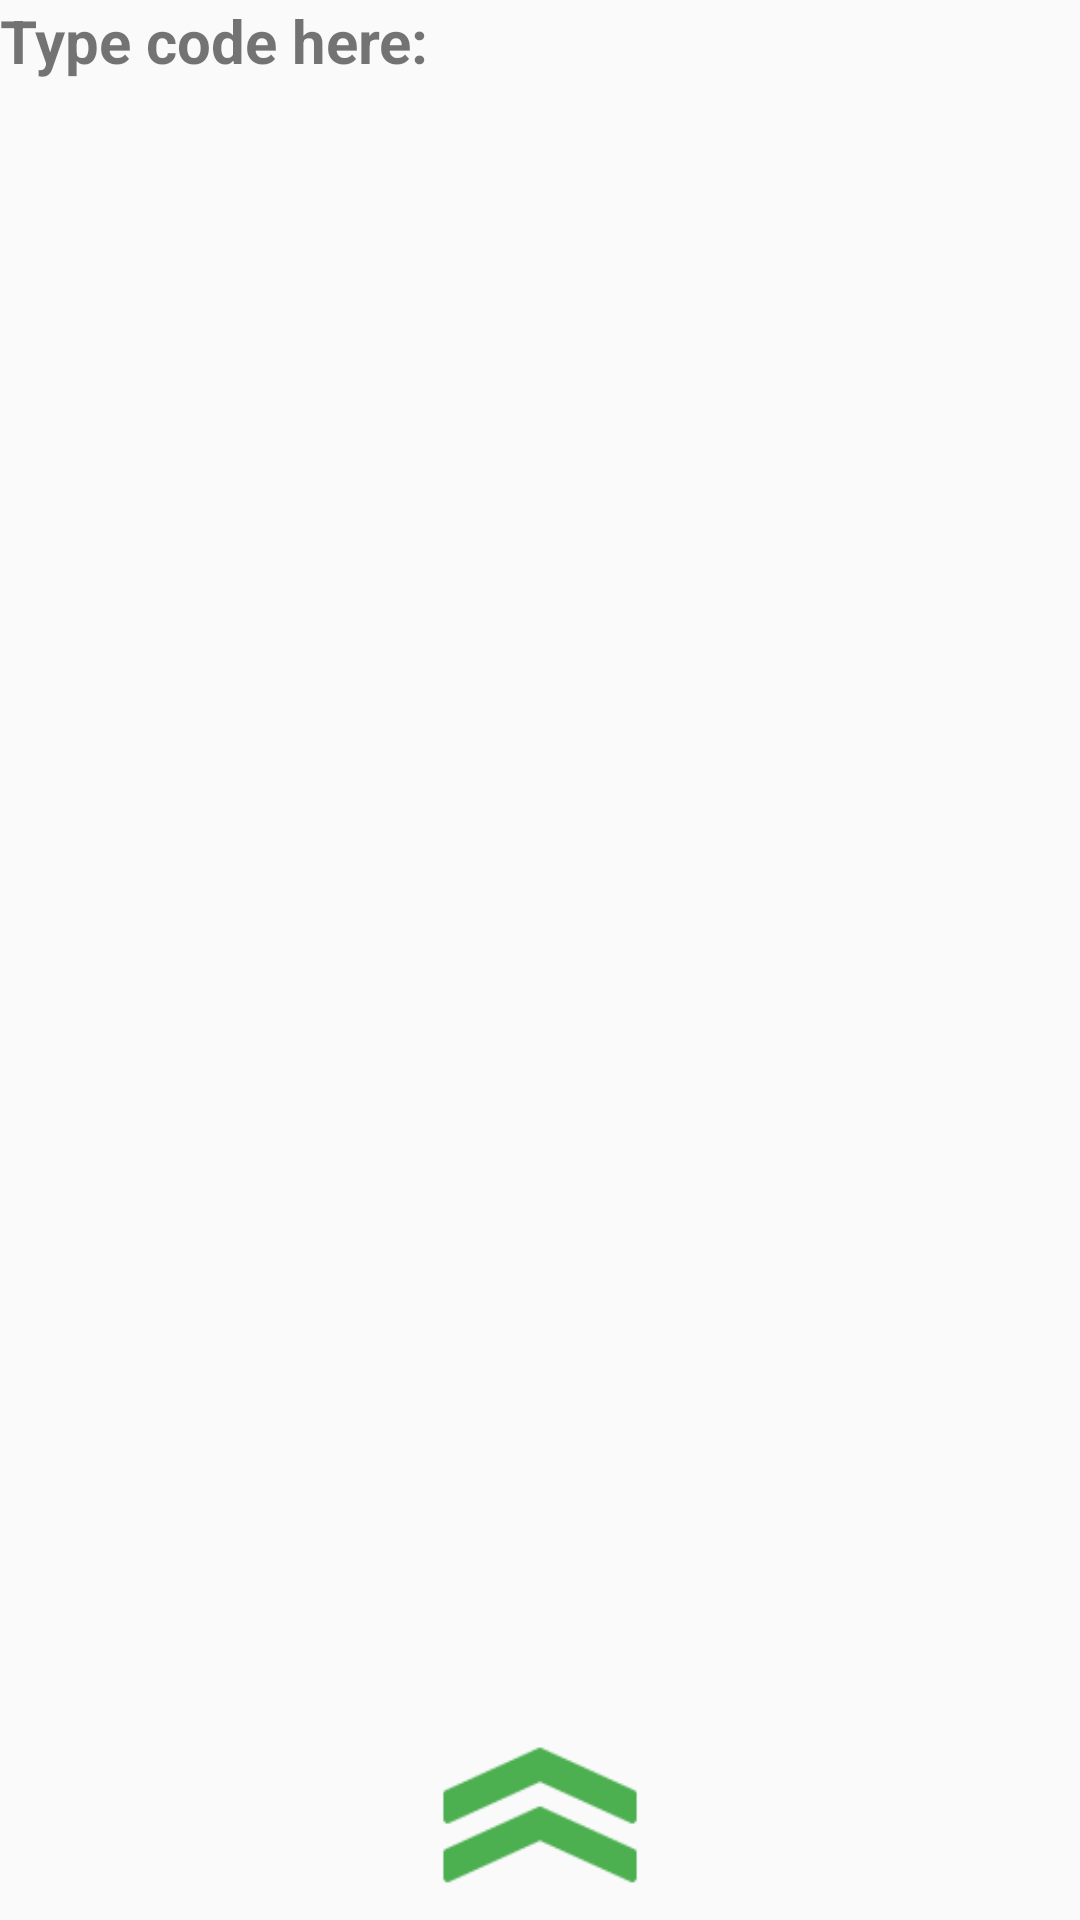

Icon click points for this 1080px×1920px phone screenshot, format point (x, y):
arrow up: point (540, 1815)
